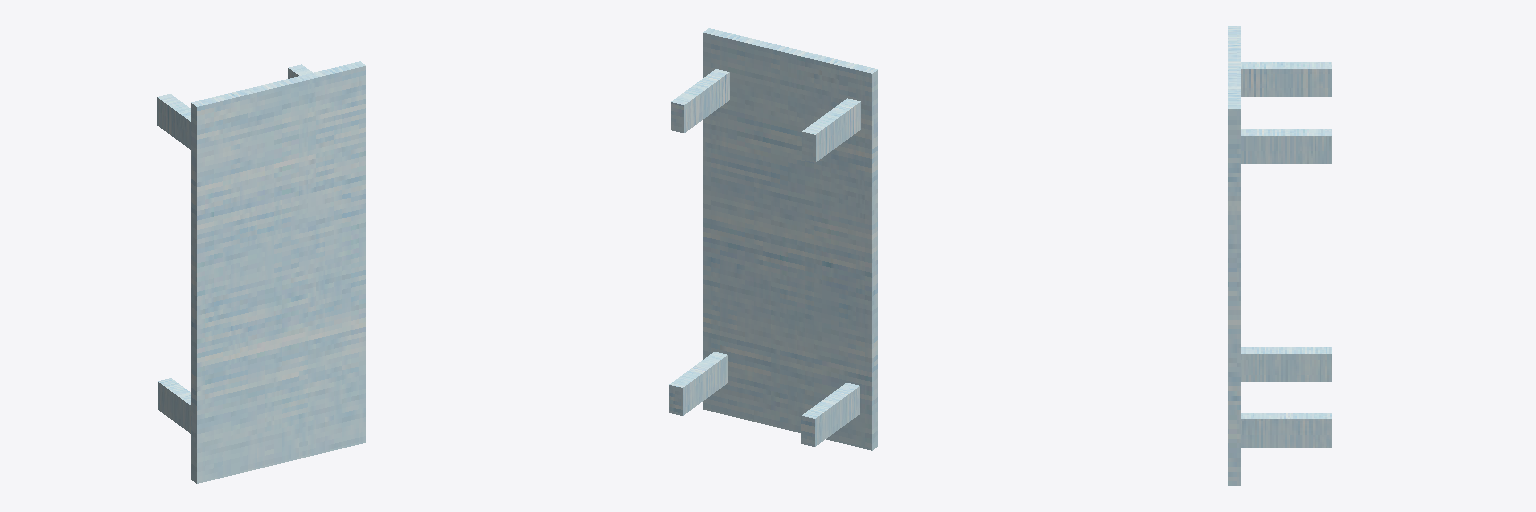
3 views of the same model, side by side, from view 1: azimuth 30°, elevation 25°; view 2: azimuth 150°, elevation 25°; view 3: azimuth 270°, elevation 25° (orthographic).
Parts seen in each view (by area): view 1: Cube; view 2: Cube; view 3: Cube.
Part boxes in pixels (bbox=[...]): Cube: bbox=[157, 61, 365, 483]; Cube: bbox=[669, 28, 877, 450]; Cube: bbox=[1228, 26, 1331, 485].
Size of the model in its own units: 0.8 by 1.7 by 0.4211.
Materials: 1 (1 with a texture image).